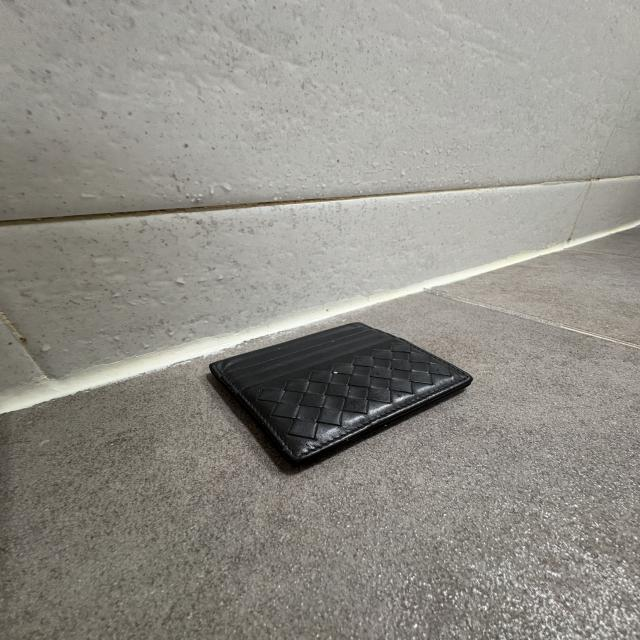wallet: (203, 319, 472, 476)
